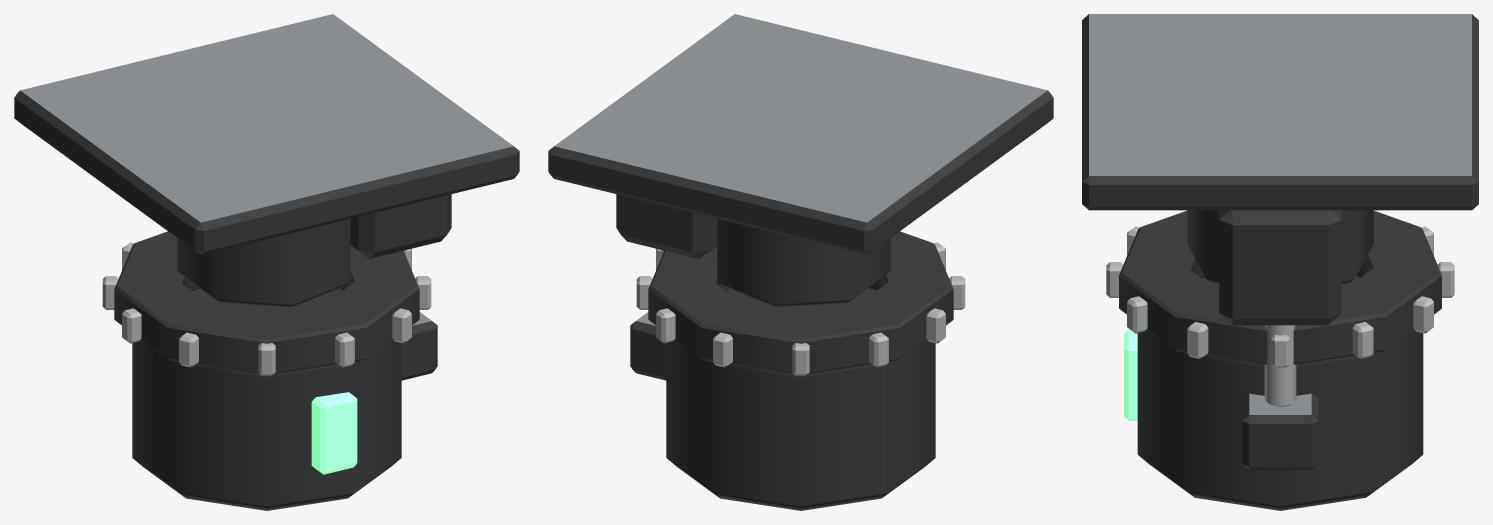
File: R4X_IndependentSteering_LOD1.fbx
3 views of the same model, side by side, from view 1: azimuth 30°, elevation 25°; view 2: azimuth 150°, elevation 25°; view 3: azimuth 270°, elevation 25° (orthographic). The views are drawn at different scales.
Parts seen in each view (by area): view 1: R4X_IndependentSteering_LOD1; view 2: R4X_IndependentSteering_LOD1; view 3: R4X_IndependentSteering_LOD1.
Boxes of the visible parts, x1,y1,x2,y2 form: R4X_IndependentSteering_LOD1: [14, 14, 519, 510]; R4X_IndependentSteering_LOD1: [548, 14, 1053, 510]; R4X_IndependentSteering_LOD1: [1082, 14, 1478, 510].
Size of the model in its own units: 0.52 by 0.52 by 0.52.
